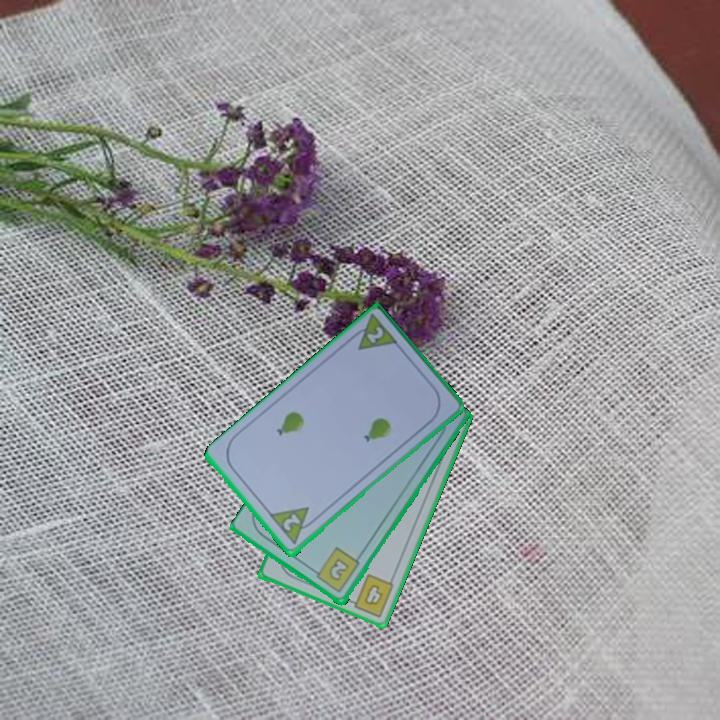2b: (309, 544, 363, 596)
2p: (266, 504, 320, 548), (345, 312, 401, 354)
4b: (344, 570, 397, 620)
